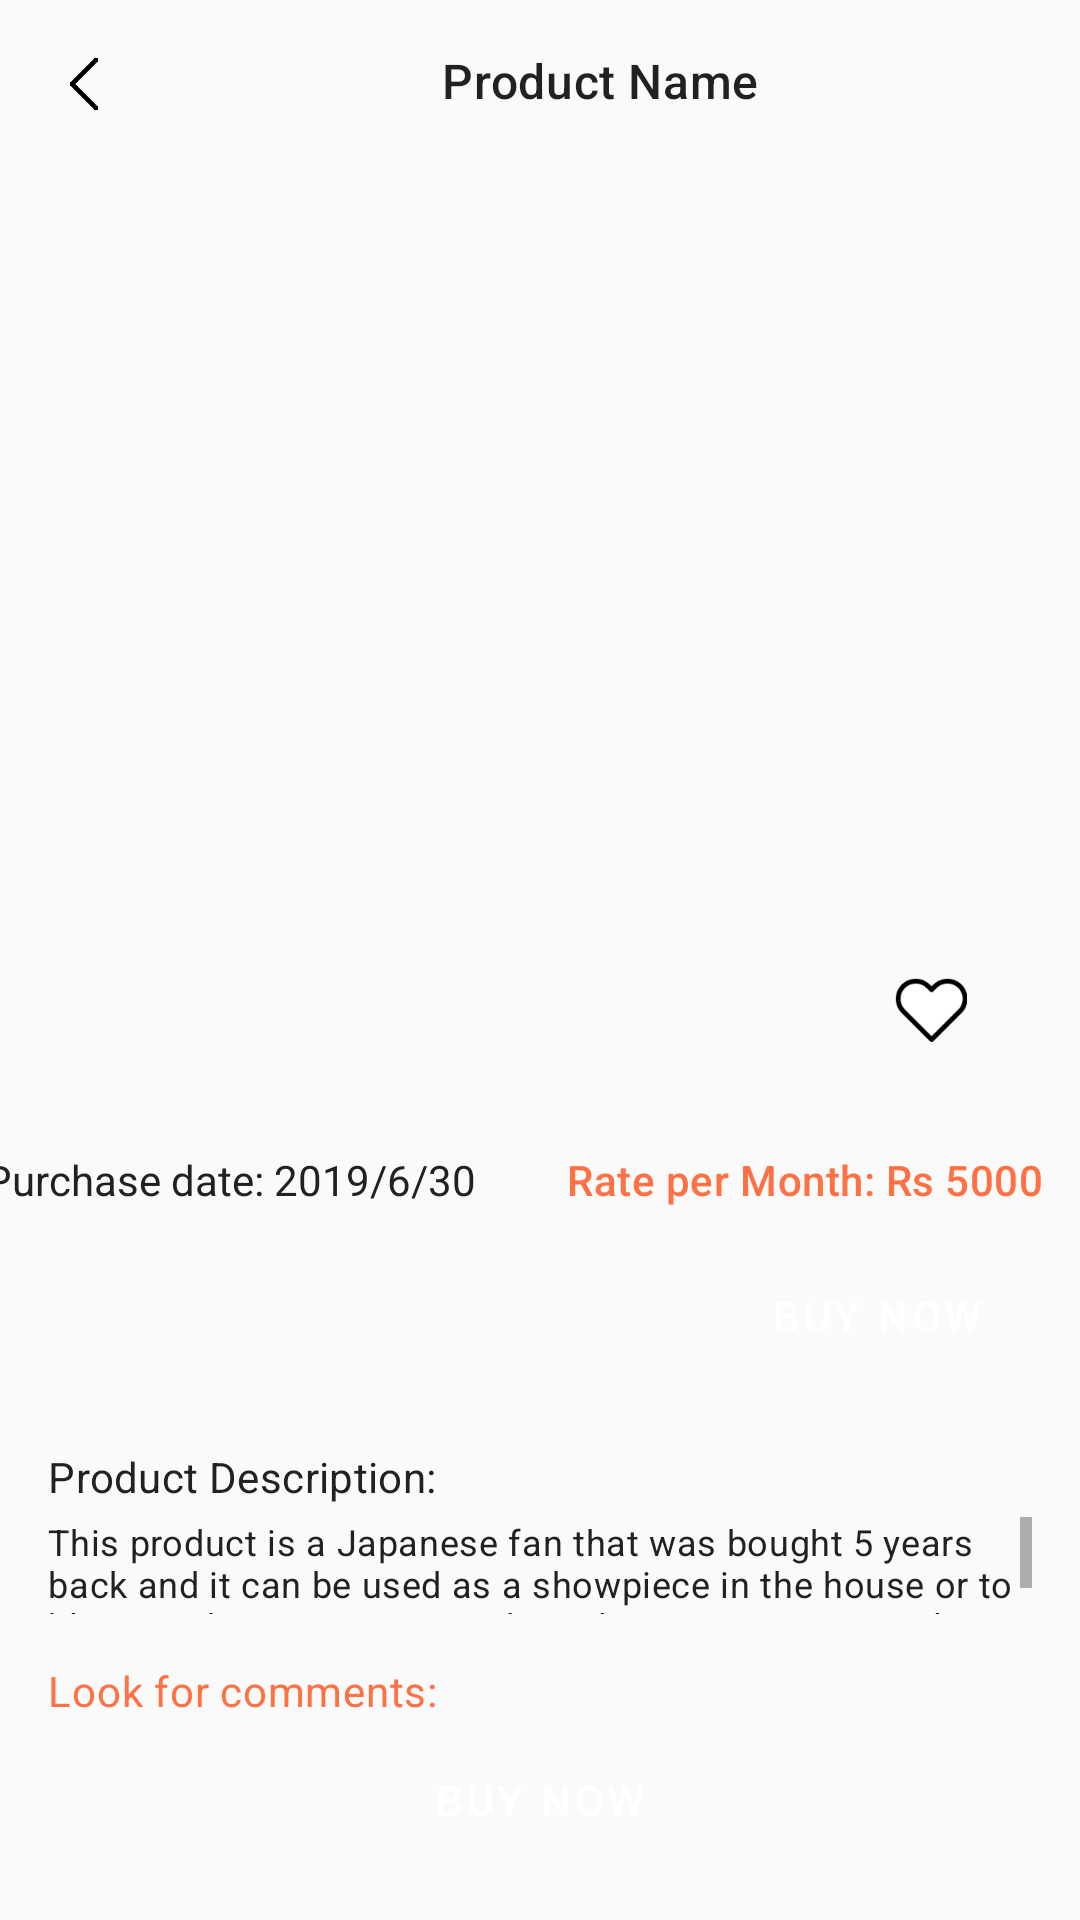

Where to tap for icons on this 1080×1920 app screen, as (x,y):
back: (84,84)
Like button: (931,1010)
